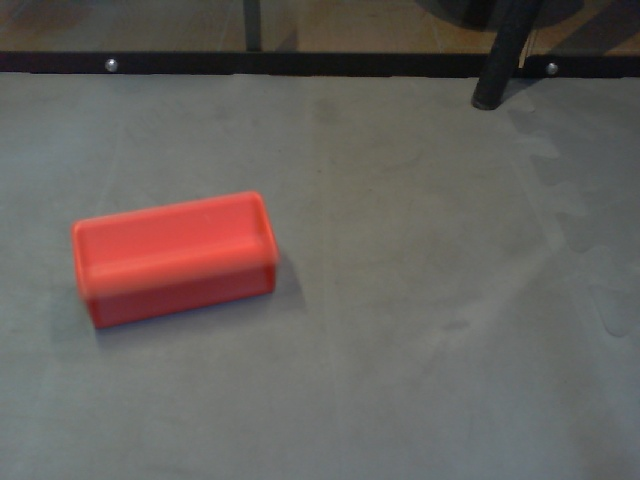RedSample: (70, 188, 281, 330)
